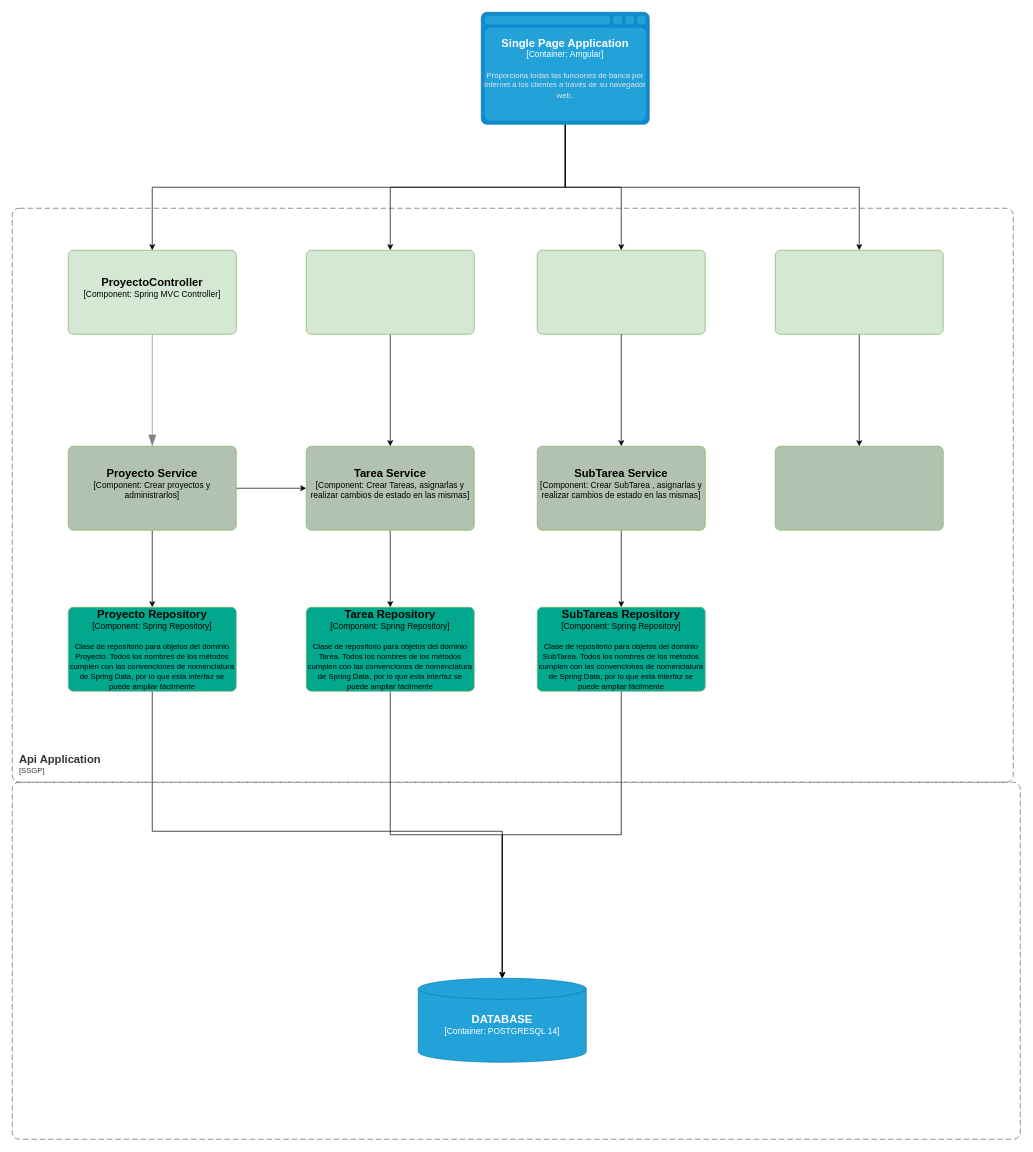
This 1033x1152 diagram has some shape labels left out. Each missing label, with the box of its shape:
DATABASE [POSTGRESQL]: (12, 782, 1020, 1139)
Notifiaciones Service [Component: Enviar Notificaciones]: (775, 446, 943, 530)
Notificaciones Controller [Component: Spring MVC Controller]: (775, 250, 943, 334)
SubTareas Controller [Component: Spring MVC Controller]: (537, 250, 705, 334)
Tarea Controller [Component: Spring MVC Controller]: (306, 250, 474, 334)
